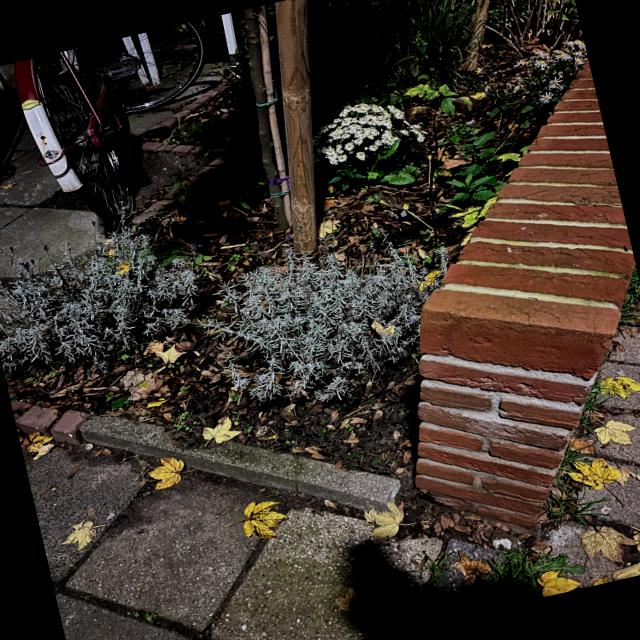leaves: (587, 512, 640, 578), (240, 484, 294, 544), (582, 445, 635, 499), (132, 454, 180, 494), (593, 406, 630, 439), (607, 364, 639, 402), (60, 519, 94, 550), (29, 427, 62, 456), (542, 570, 580, 591)
pavement: (17, 328, 640, 640)
plants: (6, 0, 582, 463)
weed: (540, 361, 615, 541), (492, 540, 570, 586), (418, 541, 457, 600)
